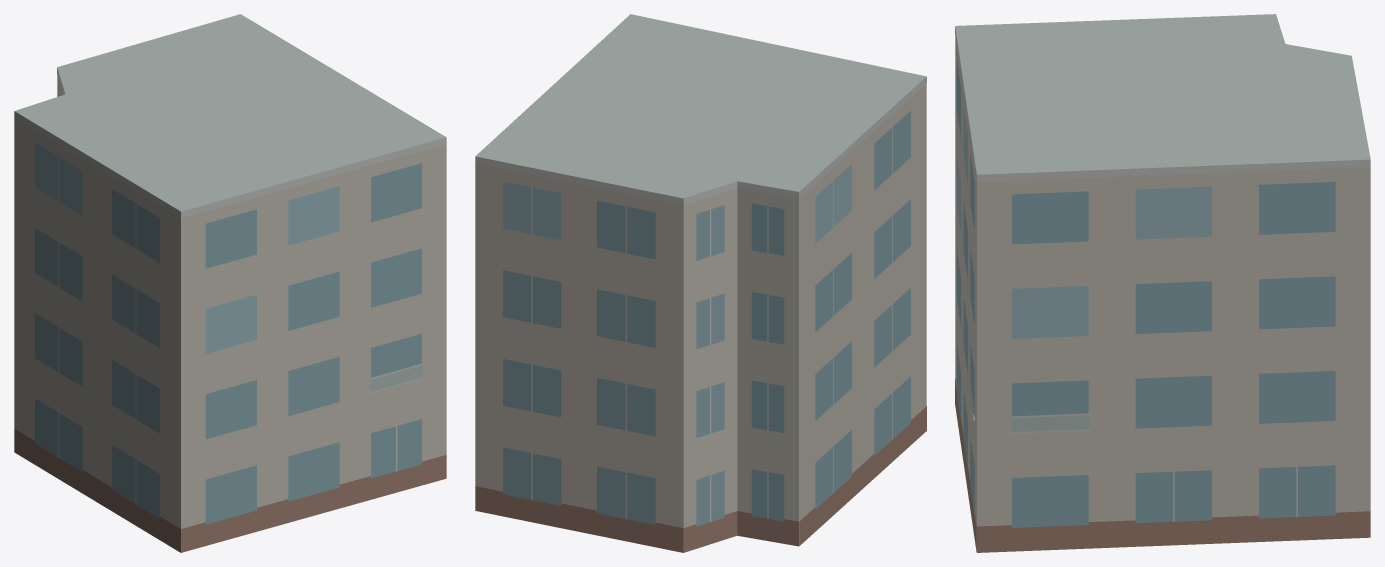
The model's file is survey-upis-32633064.glb.
3 renders of one model, left to right at view 1: azimuth 30°, elevation 25°; view 2: azimuth 150°, elevation 25°; view 3: azimuth 270°, elevation 25°, orthographic. The views are drawn at different scales.
Parts seen in each view (by area): view 1: survey-upis-32633064.tmp; view 2: survey-upis-32633064.tmp; view 3: survey-upis-32633064.tmp.
Boxes of the visible parts, x1,y1,x2,y2 form: survey-upis-32633064.tmp: (14,14,446,552); survey-upis-32633064.tmp: (475,14,926,552); survey-upis-32633064.tmp: (955,14,1370,552).
Bounding box in the file's own units: 11.22 × 12.3 × 12.26.
